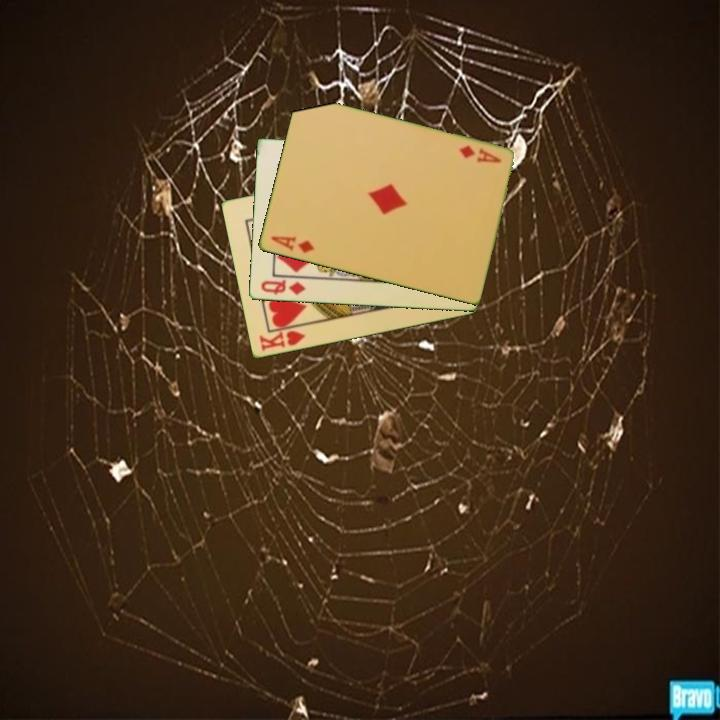Ad: (455, 142, 504, 166), (267, 233, 317, 256)
Kh: (256, 322, 309, 354)
Qd: (257, 277, 308, 298)
